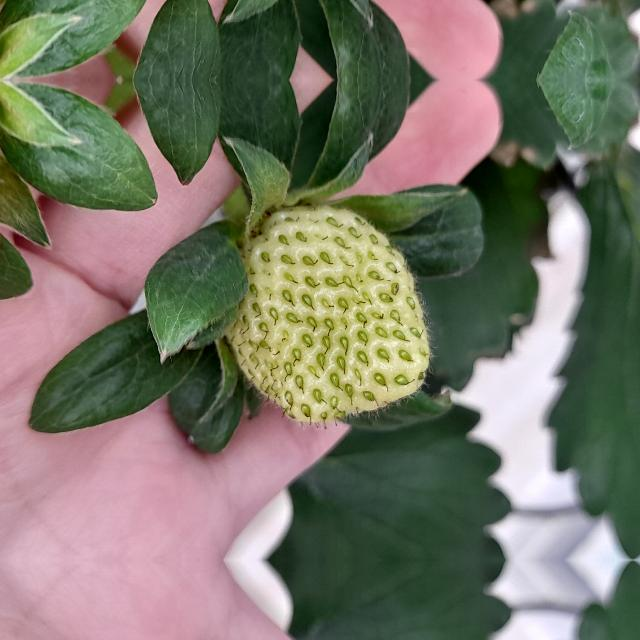Health_25: (226, 205, 429, 423)
